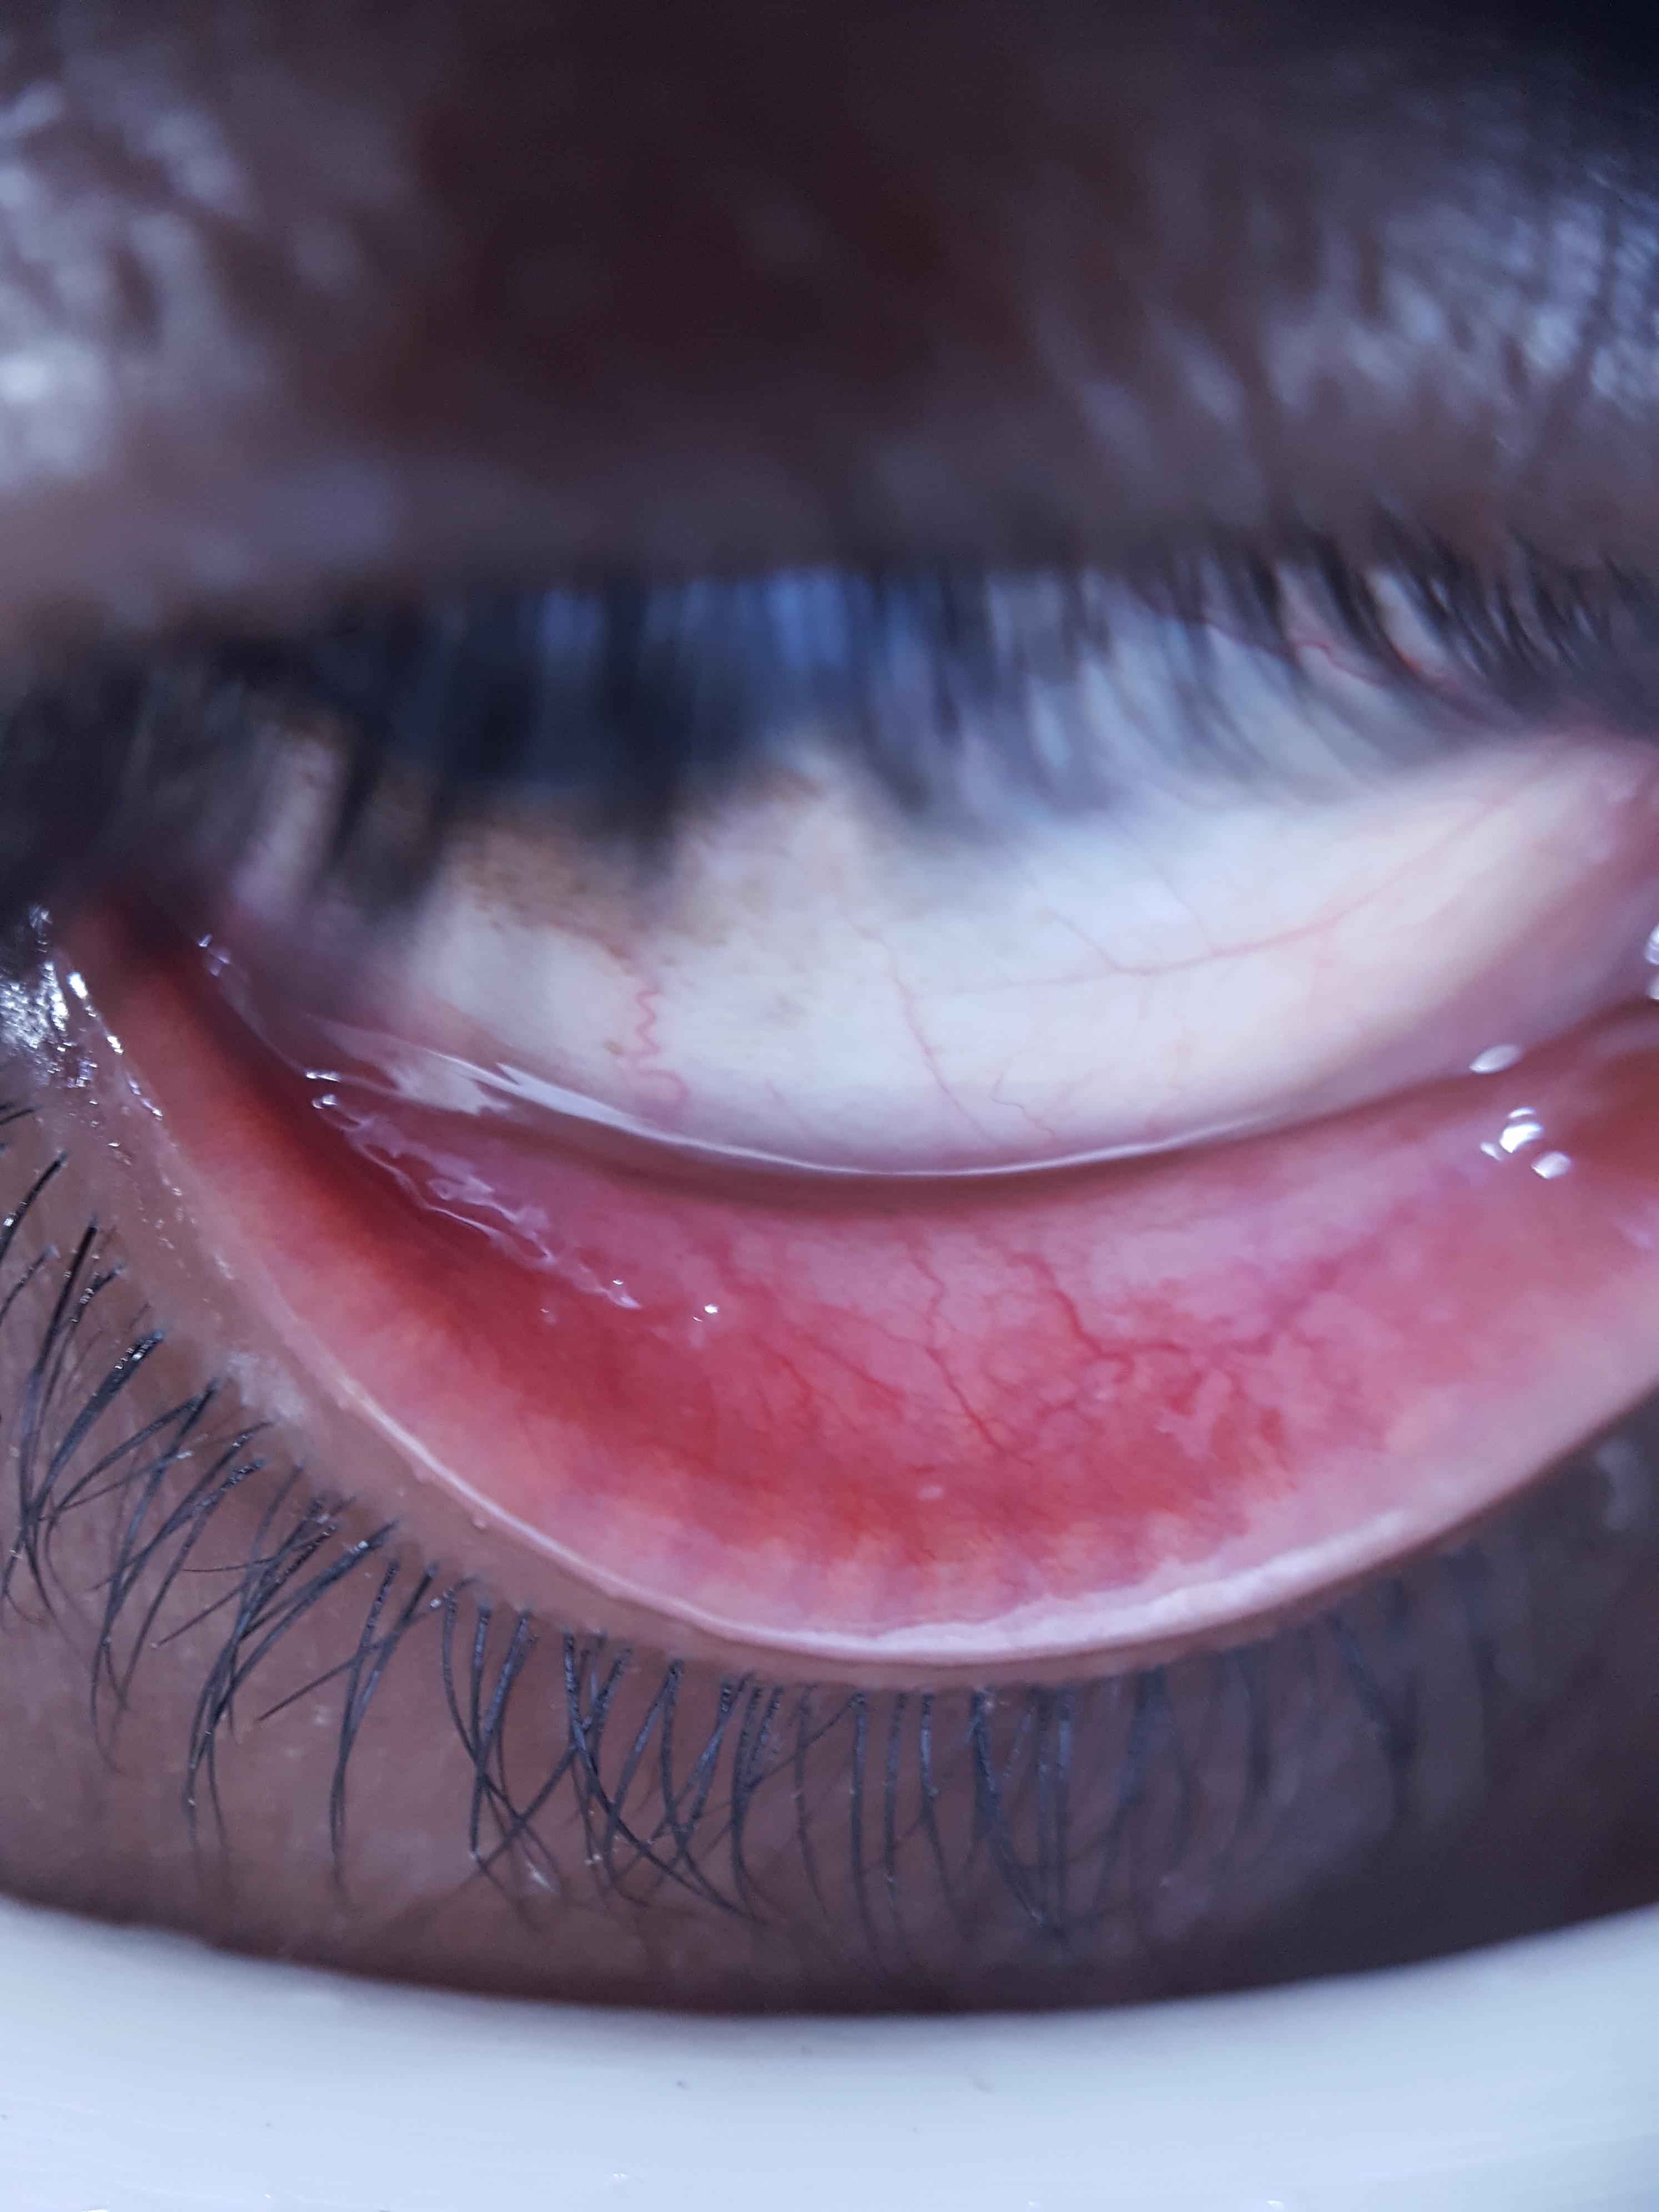forniceal: (270, 1000, 1652, 1467)
forniceal_palpebral: (141, 967, 1659, 1588)
palpebral: (181, 1000, 1652, 1571)
